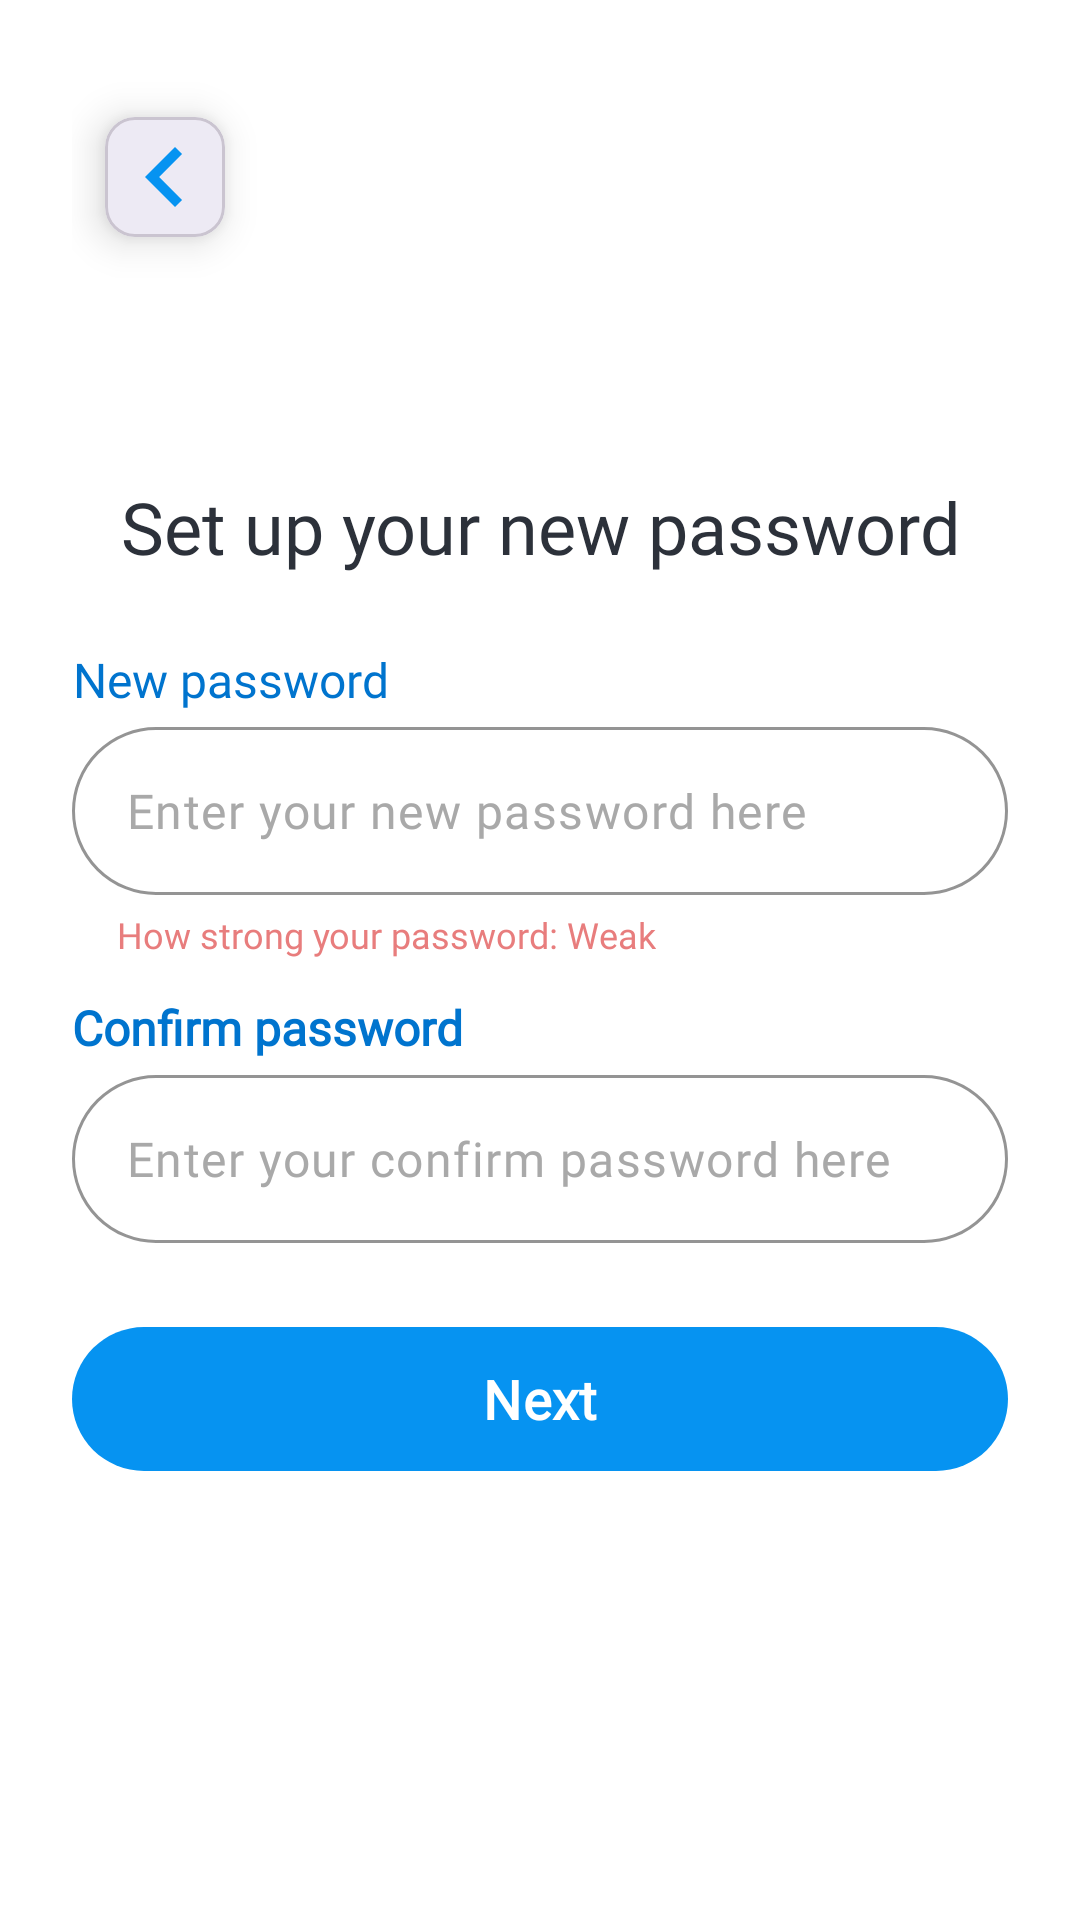

Where to tap for icons on this 1080 x 1920 app screen, as (x=x, y=y):
Back: (x=165, y=177)
